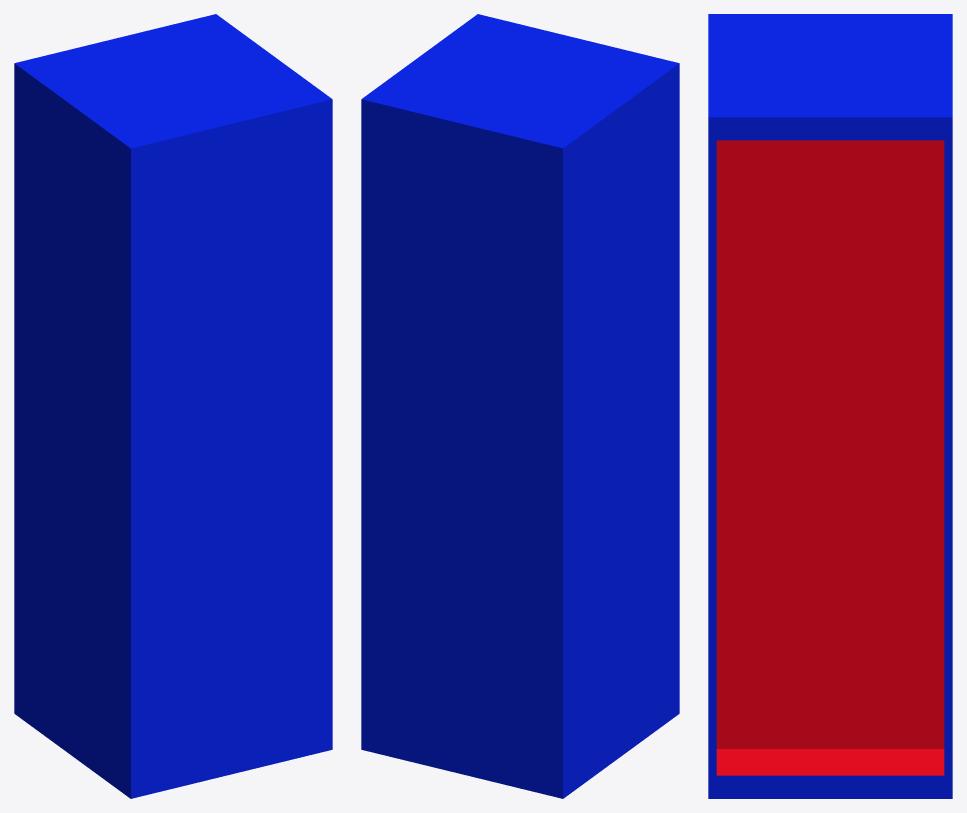
Rendered from locker.fbx.
The picture shows the model from 3 angles, left to right: view 1: azimuth 30°, elevation 25°; view 2: azimuth 150°, elevation 25°; view 3: azimuth 270°, elevation 25°; orthographic projection. The views are drawn at different scales.
Parts seen in each view (by area): view 1: Cube; view 2: Cube; view 3: Cube.
Part boxes in pixels (<box>): Cube: <box>14,14,332,798</box>; Cube: <box>361,14,679,798</box>; Cube: <box>708,14,952,798</box>.
Size of the model in its own units: 200 by 616 by 200.
